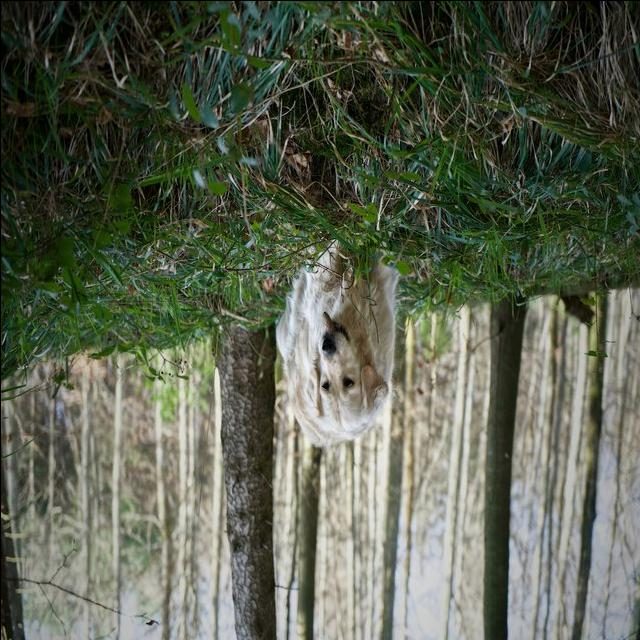retriever: (274, 239, 400, 448)
